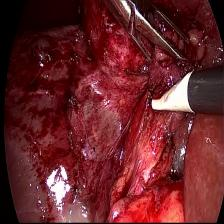Grasper: (104, 0, 196, 69)
Hook: (145, 69, 196, 123)
